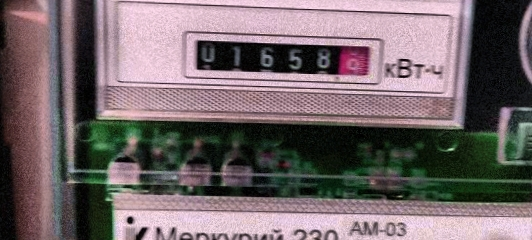0: (198, 40, 215, 62)
1: (228, 42, 242, 66)
5: (286, 45, 302, 70)
6: (257, 44, 275, 68)
8: (314, 46, 331, 68)
9: (343, 54, 359, 76)
screen: (179, 26, 386, 88)
